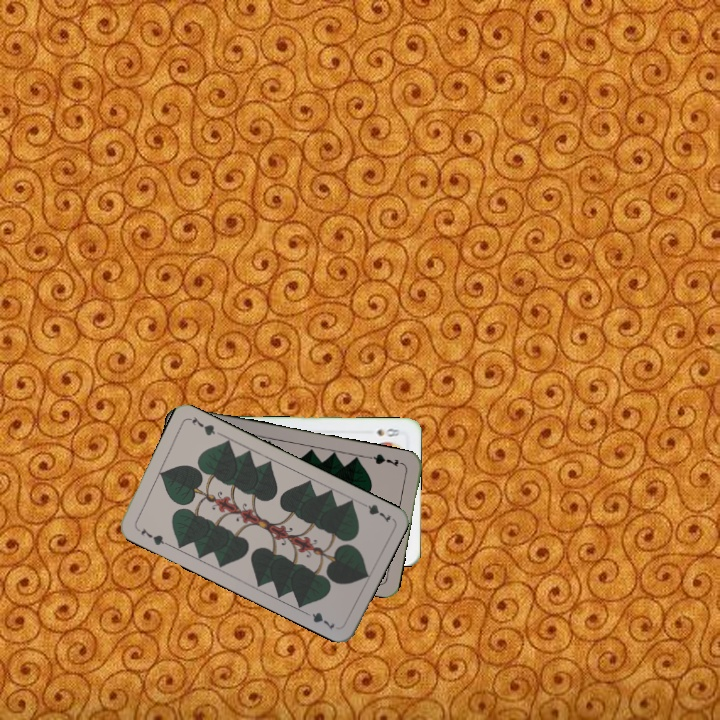G7: (356, 498, 394, 525), (133, 524, 171, 548), (366, 450, 406, 469)
S8: (372, 425, 402, 440)
